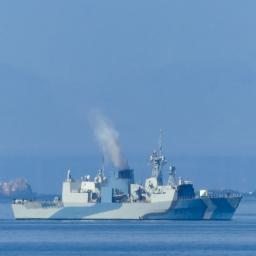Fragata: (11, 133, 244, 226)
